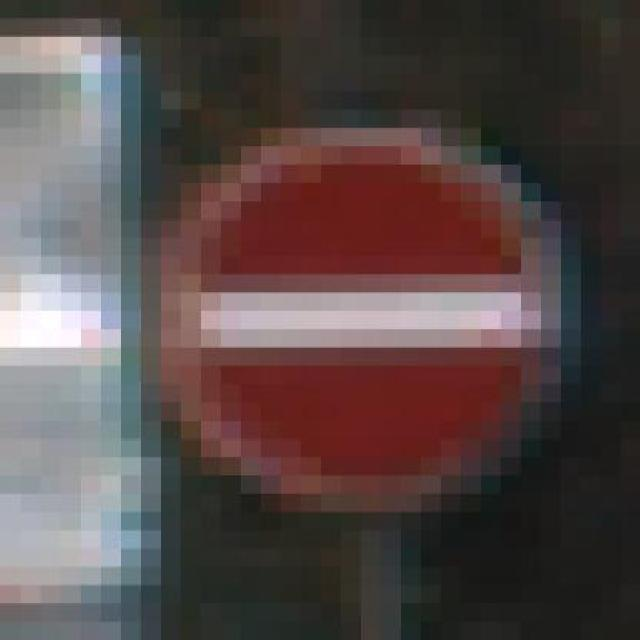No Entry: (100, 92, 580, 530)
